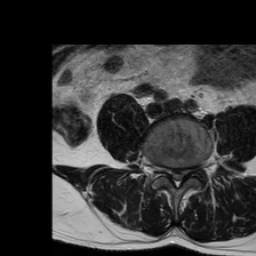CCS_severe_stenosis: (173, 163, 180, 193)
LFS_severe_stenosis: (188, 158, 197, 180)
LLS_severe_stenosis: (180, 163, 188, 186)
RFS_stenosis: (157, 157, 166, 178)
RLS_severe_stenosis: (166, 163, 173, 182)
